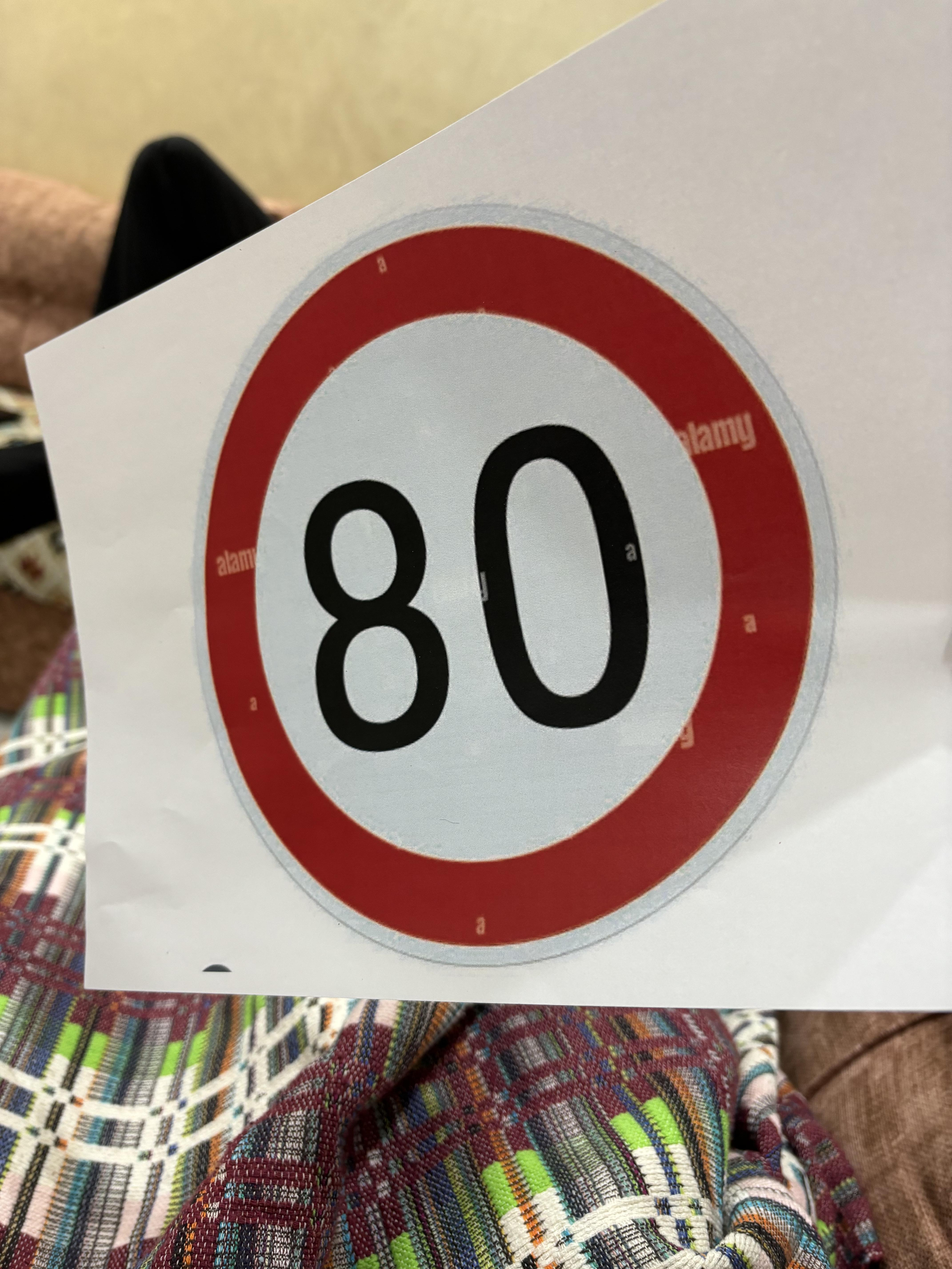80-Speed: (183, 198, 850, 963)
